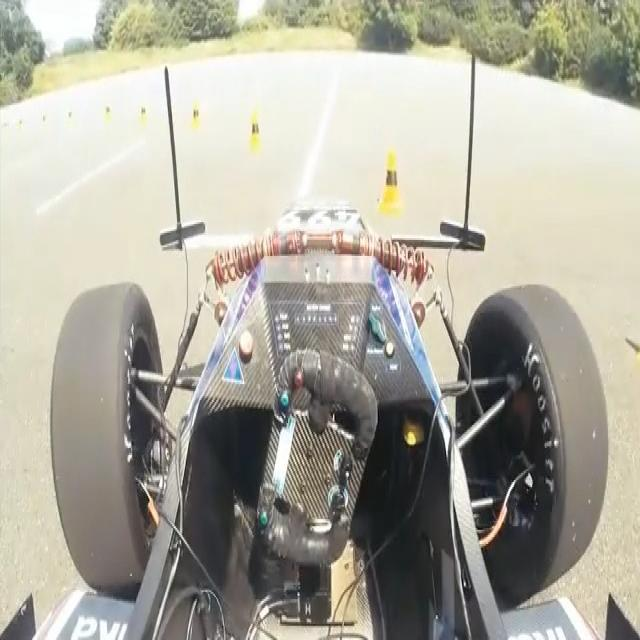yellow_cone: (378, 146, 404, 213), (247, 112, 265, 160), (188, 98, 202, 138), (138, 102, 149, 138), (105, 103, 114, 133), (16, 119, 26, 140), (67, 107, 75, 130), (39, 113, 47, 136)
